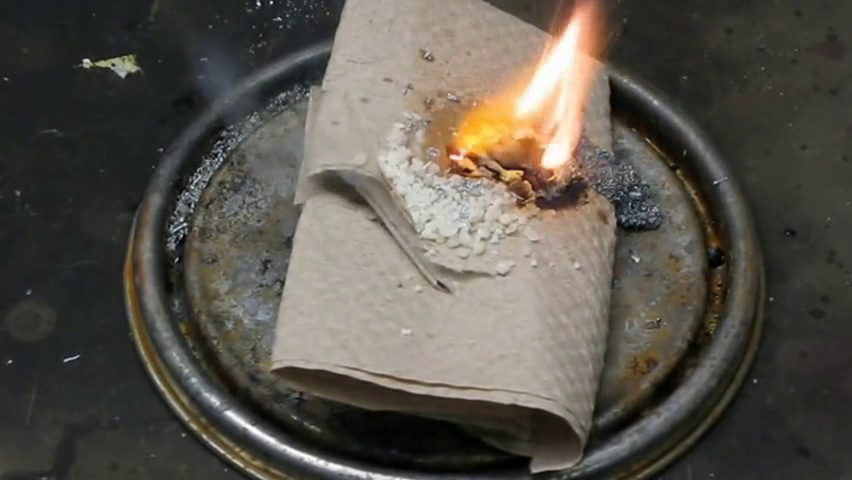fire: (480, 6, 607, 202)
